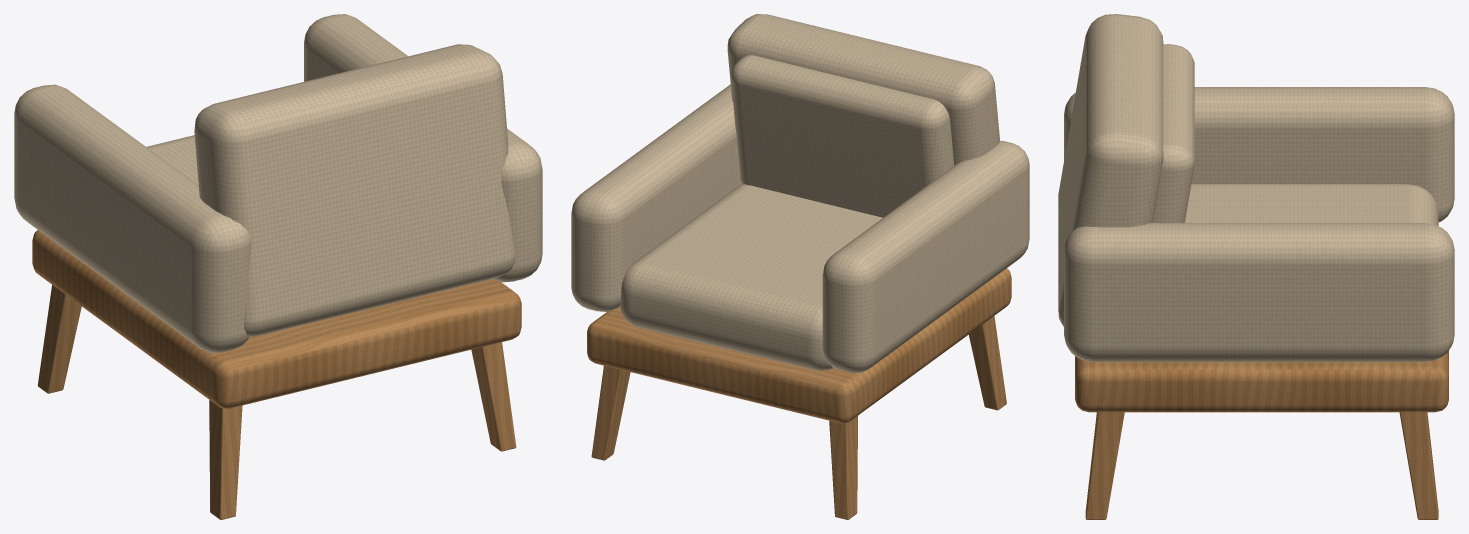
File: chair.glb
3 views of the same model, side by side, from view 1: azimuth 30°, elevation 25°; view 2: azimuth 150°, elevation 25°; view 3: azimuth 270°, elevation 25° (orthographic). The views are drawn at different scales.
Parts seen in each view (by area): view 1: SM_chair; view 2: SM_chair; view 3: SM_chair.
Part boxes in pixels (bbox=[...]): SM_chair: bbox=[14, 14, 542, 519]; SM_chair: bbox=[571, 14, 1029, 519]; SM_chair: bbox=[1058, 14, 1454, 519].
Size of the model in its own units: 0.78 by 0.84 by 0.8.
Materials: 2 (2 with a texture image).
